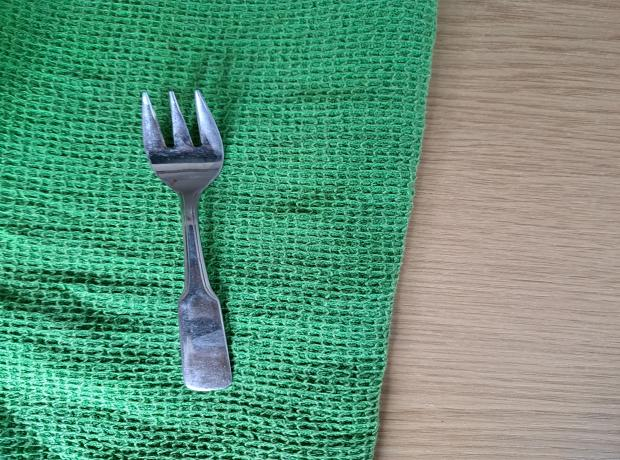metal: (140, 84, 232, 394)
